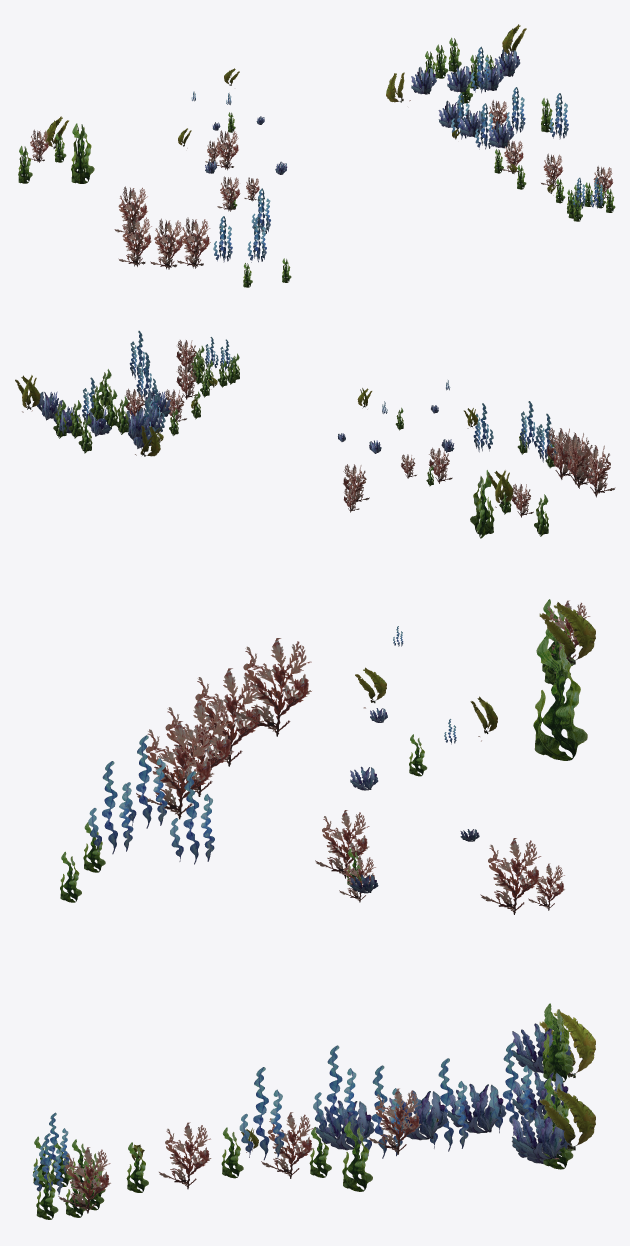
Rendered from ENV_Seaweed.fbx.
The picture shows the model from 3 angles, top to bottom: view 1: azimuth 30°, elevation 25°; view 2: azimuth 150°, elevation 25°; view 3: azimuth 270°, elevation 25°; orthographic projection. The views are drawn at different scales.
Parts seen in each view (by area): view 1: Aset_Seaweed_4.011, Aset_Seaweed_2.017, Aset_Seaweed_4.012, Aset_Seaweed_4.010, Aset_Seaweed_4.013, Aset_Seaweed_4.003, Aset_Seaweed_1, Aset_Seaweed_1.001, Aset_Seaweed_1.006, Aset_Seaweed_1.003, Aset_Seaweed_4.001, Aset_Seaweed_3.004 (+11 smaller); view 2: Aset_Seaweed_4.013, Aset_Seaweed_2.017, Aset_Seaweed_4.010, Aset_Seaweed_4.012, Aset_Seaweed_4.003, Aset_Seaweed_5.001, Aset_Seaweed_5.002, Aset_Seaweed_4.001, Aset_Seaweed_3.010, Aset_Seaweed_1, Aset_Seaweed_1.003, Aset_Seaweed_3.011 (+13 smaller); view 3: Aset_Seaweed_2.017, Aset_Seaweed_4.013, Aset_Seaweed_4.012, Aset_Seaweed_4.010, Aset_Seaweed_4.011, Aset_Seaweed_4.003, Aset_Seaweed_1.003, Aset_Seaweed_4.001, Aset_Seaweed_1.004, Aset_Seaweed_4.007, Aset_Seaweed_4.009, Aset_Seaweed_4 (+18 smaller).
Boxes of the visible parts, x1,y1,x2,y2 form: Aset_Seaweed_4.011: [150, 218, 183, 269]; Aset_Seaweed_2.017: [71, 123, 94, 183]; Aset_Seaweed_4.012: [177, 217, 210, 268]; Aset_Seaweed_4.010: [118, 216, 151, 266]; Aset_Seaweed_4.013: [114, 186, 147, 235]; Aset_Seaweed_4.003: [213, 130, 238, 170]; Aset_Seaweed_1: [411, 67, 436, 94]; Aset_Seaweed_1.001: [447, 65, 471, 92]; Aset_Seaweed_1.006: [488, 120, 514, 148]; Aset_Seaweed_1.003: [495, 49, 520, 76]; Aset_Seaweed_4.001: [217, 176, 240, 211]; Aset_Seaweed_3.004: [506, 87, 525, 133]; Aset_Seaweed_4.013: [560, 432, 594, 484]; Aset_Seaweed_2.017: [470, 470, 494, 538]; Aset_Seaweed_4.010: [581, 445, 615, 497]; Aset_Seaweed_4.012: [546, 428, 575, 479]; Aset_Seaweed_4.003: [343, 464, 369, 503]; Aset_Seaweed_5.001: [15, 375, 40, 412]; Aset_Seaweed_5.002: [488, 470, 513, 507]; Aset_Seaweed_4.001: [428, 447, 452, 483]; Aset_Seaweed_3.010: [520, 401, 540, 449]; Aset_Seaweed_1: [124, 410, 149, 438]; Aset_Seaweed_1.003: [36, 391, 62, 420]; Aset_Seaweed_3.011: [473, 403, 493, 452]; Aset_Seaweed_2.017: [533, 636, 587, 760]; Aset_Seaweed_4.013: [233, 638, 311, 736]; Aset_Seaweed_4.012: [136, 721, 213, 819]; Aset_Seaweed_4.010: [185, 668, 263, 766]; Aset_Seaweed_4.011: [155, 698, 233, 796]; Aset_Seaweed_4.003: [480, 838, 541, 914]; Aset_Seaweed_1.003: [512, 1110, 568, 1159]; Aset_Seaweed_4.001: [315, 810, 369, 878]; Aset_Seaweed_1.004: [447, 1083, 506, 1133]; Aset_Seaweed_4.007: [159, 1122, 211, 1189]; Aset_Seaweed_4.009: [368, 1088, 421, 1154]; Aset_Seaweed_4: [58, 1147, 110, 1213].
Size of the model in its own units: 834 by 217 by 402.
